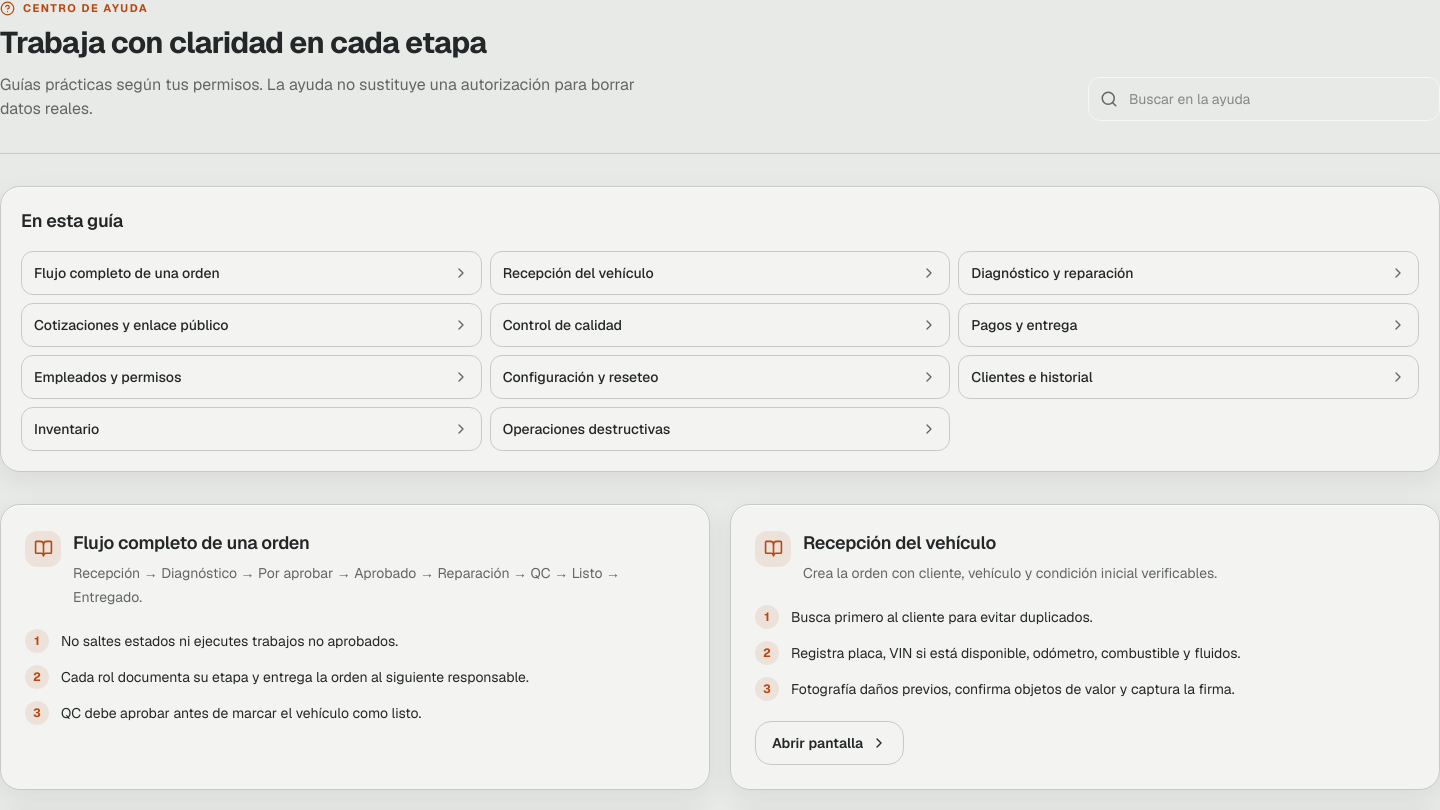
role-aware help › shows admin guidance and filters it with the search
The width and height of the screenshot is (1440, 810).
expect the text "Operaciones destructivas" is shown: met, box top-left (503, 418), bottom-right (670, 438)
Type "inventario" into the search field labelled "Buscar en la ayuda" at x=1264, y=98, box top-left (1088, 76), bottom-right (1439, 120)
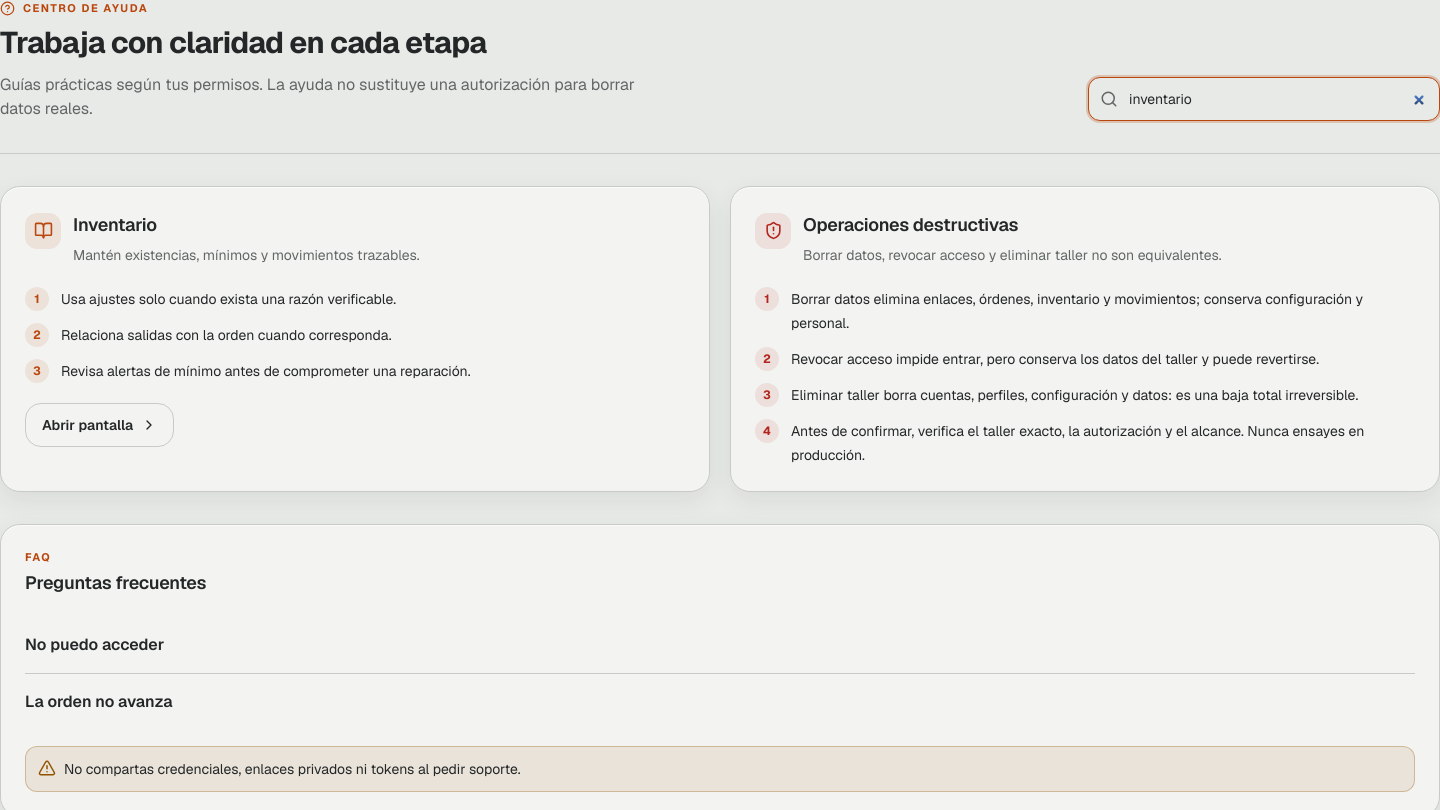
expect the heading "Inventario" is shown: met, box top-left (73, 212), bottom-right (157, 236)
expect the link "Empleados y permisos" is gone: met
